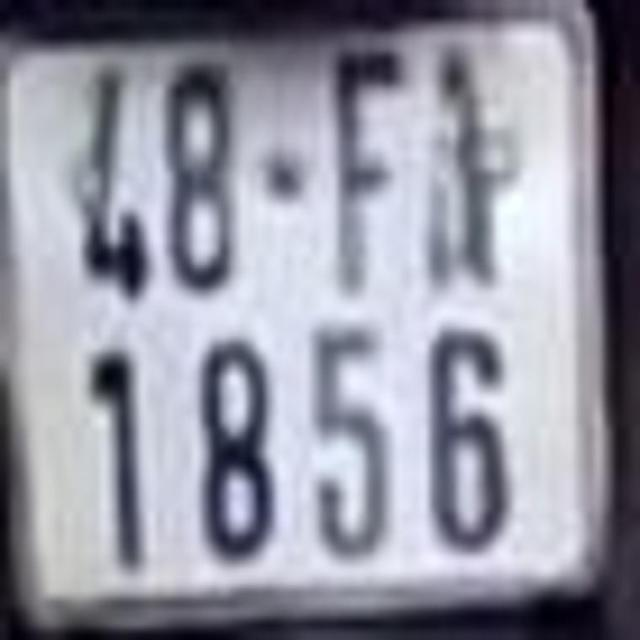1: (86, 350, 151, 571)
4: (80, 66, 152, 304)
5: (310, 322, 394, 559)
6: (426, 320, 511, 555)
8: (196, 335, 276, 563), (164, 60, 237, 294)
F: (332, 45, 408, 294)
